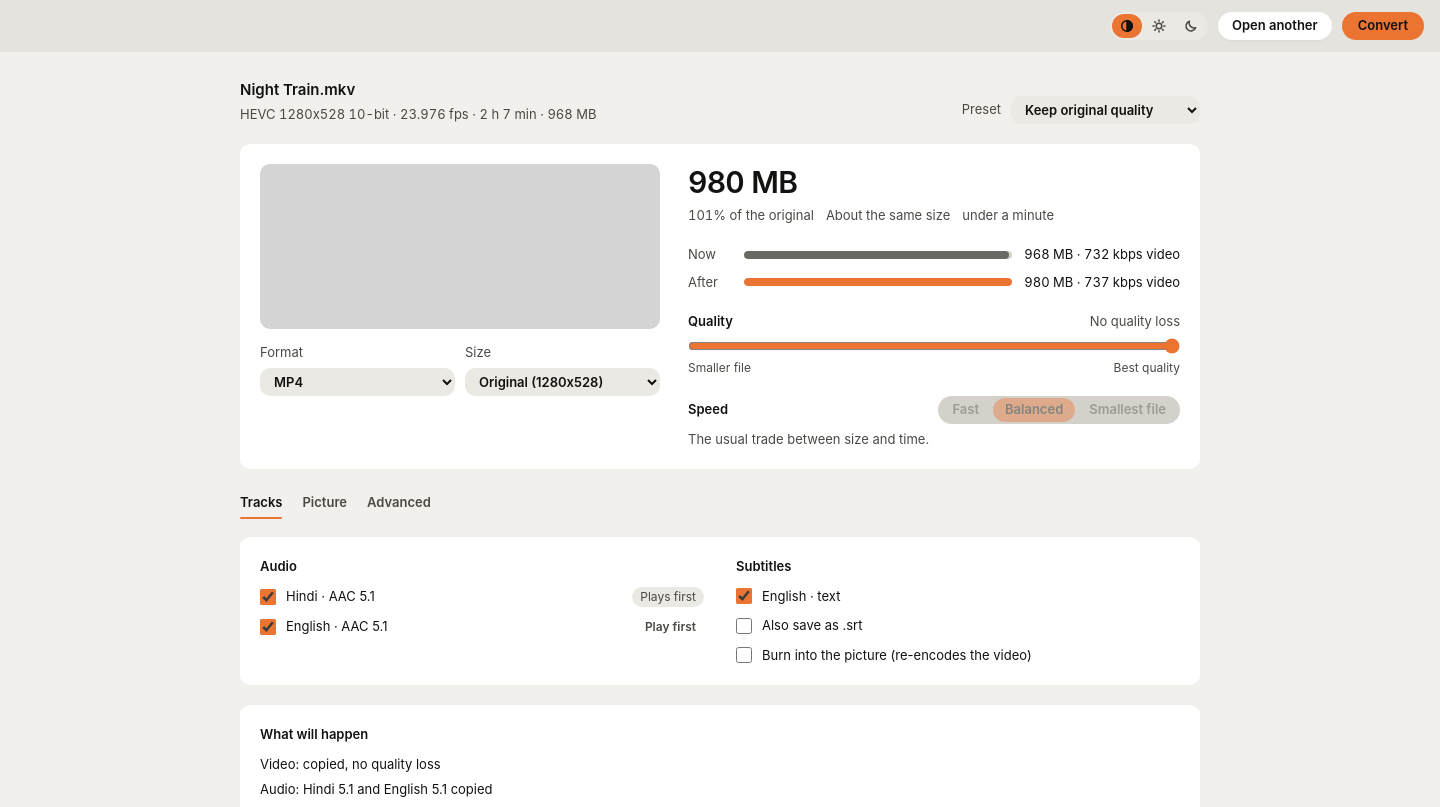
the result card › trades quality for size on the slider, and the plain words follow
Check: the text "980 MB" is shown, box [688, 164, 797, 200]
Set the slider labelled "Quality" to "60" at (982, 346), box [688, 338, 1180, 354]
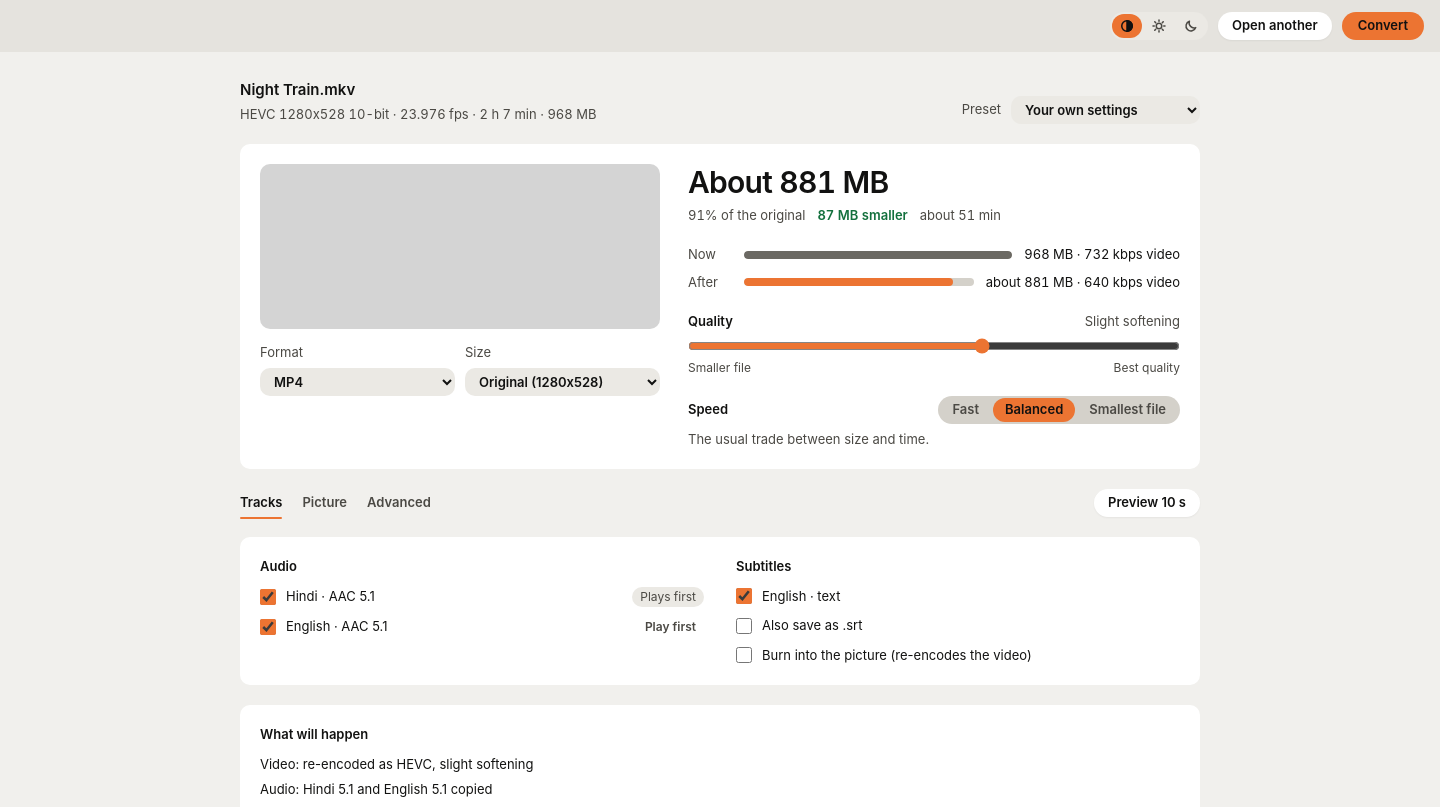
Check: the text "About 881 MB" is shown, box [688, 164, 889, 200]
Check: the list item "Video: re-encoded as HEVC, slight softening" is shown, box [260, 756, 533, 772]
